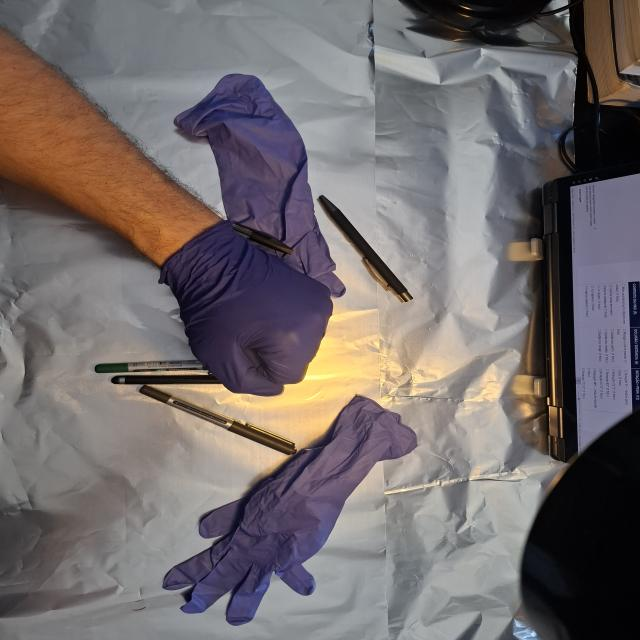glove_on: (156, 219, 336, 399)
